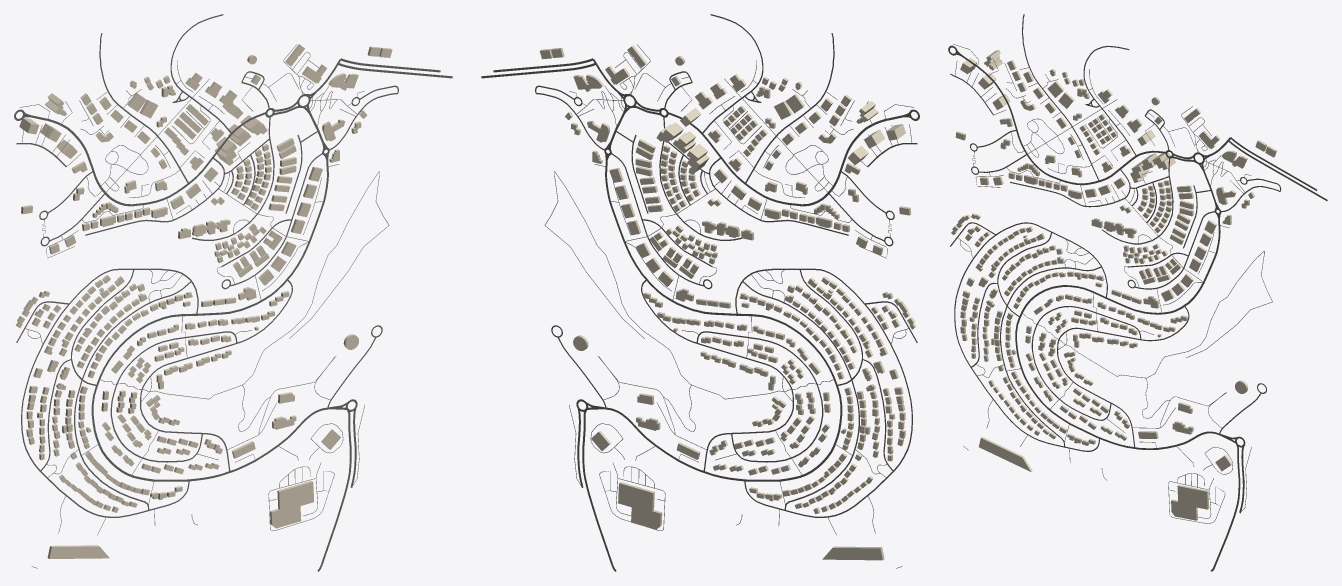
Rendered from historic-palestine-11_33_3533_3272.glb.
The picture shows the model from 3 angles, left to right: view 1: azimuth 30°, elevation 25°; view 2: azimuth 150°, elevation 25°; view 3: azimuth 330°, elevation 25°; orthographic projection. The views are drawn at different scales.
Visible parts, largest first — view 1: Road יקינטון.002, Building_.001, Road מורן, Building_, Road דליה.002, Road עטרה, Road ניצן, Road אגמון; view 2: Road יקינטון.002, Building_.001, Road מורן, Building_, Road דליה.002, Road עטרה, Road ניצן, Road אגמון; view 3: Road יקינטון.002, Building_.001, Road מורן, Building_, Road דליה.002, Road עטרה.
Part boxes in pixels (x1,y1,x2,y2): Road יקינטון.002: (91, 160, 328, 481); Building_.001: (270, 480, 314, 528); Road מורן: (21, 268, 198, 517); Building_: (47, 545, 109, 558); Road דליה.002: (68, 112, 266, 206); Road עטרה: (140, 279, 292, 471); Road ניצן: (74, 281, 190, 509); Road אגמון: (110, 331, 237, 462); Road יקינטון.002: (605, 160, 842, 481); Building_.001: (618, 482, 662, 529); Road מורן: (735, 268, 912, 517); Building_: (822, 546, 884, 560); Road דליה.002: (667, 112, 865, 206); Road עטרה: (641, 279, 793, 471); Road ניצן: (743, 281, 859, 509); Road אגמון: (696, 331, 823, 462); Road יקינטון.002: (1015, 219, 1220, 449); Building_.001: (1171, 485, 1209, 520); Road מורן: (954, 222, 1107, 451); Building_: (979, 437, 1032, 471); Road דליה.002: (995, 83, 1166, 185); Road עטרה: (1057, 306, 1189, 447).
Bounding box in the file's own units: 1104 × 1423 × 47.2.
